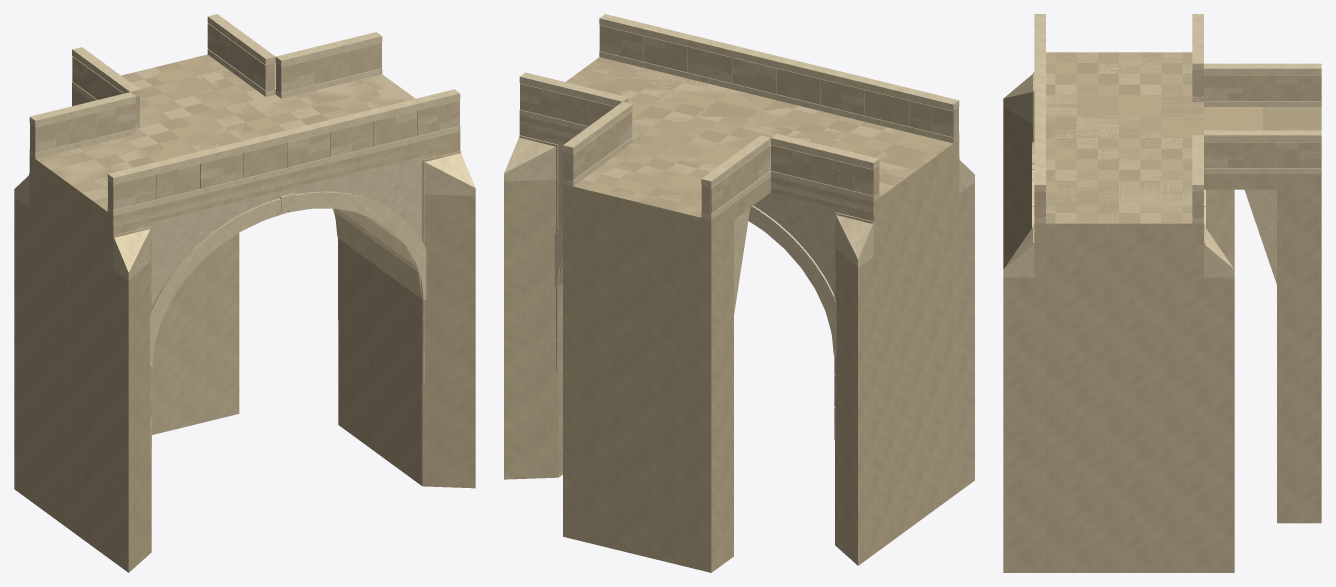
The model's file is verona_bridge_junction.glb.
3 renders of one model, left to right at view 1: azimuth 30°, elevation 25°; view 2: azimuth 150°, elevation 25°; view 3: azimuth 270°, elevation 25°, orthographic. The views are drawn at different scales.
Visible parts, largest first — view 1: Travertine.002, Limestone_trim.002, Limestone_trim.003, Limewash.002, Travertine.003, Paving_3.002, Paving_0.002, Limewash.003, Paving_2.002, Paving_1.002, Paving_3.003, Travertine.004 (+6 smaller); view 2: Travertine.002, Limestone_trim.002, Limestone_trim.003, Travertine.003, Limewash.002, Paving_0.002, Paving_3.002, Limewash.003, Paving_1.002, Paving_0.003, Paving_2.002, Paving_1.004 (+6 smaller); view 3: Travertine.002, Limestone_trim.002, Paving_3.002, Paving_2.002, Paving_1.002, Paving_0.002, Limestone_trim.003, Paving_1.004, Paving_0.004, Paving_0.003, Paving_3.003, Paving_2.003 (+6 smaller).
Part boxes in pixels (<box>): Travertine.002: <box>14,23,475,572</box>; Limestone_trim.002: <box>14,14,475,366</box>; Limestone_trim.003: <box>29,14,460,449</box>; Limewash.002: <box>35,32,459,305</box>; Travertine.003: <box>29,23,460,417</box>; Paving_3.002: <box>36,54,387,192</box>; Paving_0.002: <box>61,57,380,210</box>; Limewash.003: <box>35,68,435,306</box>; Paving_2.002: <box>41,61,385,200</box>; Paving_1.002: <box>51,62,364,207</box>; Paving_3.003: <box>36,56,414,169</box>; Travertine.004: <box>333,208,422,299</box>; Travertine.002: <box>504,25,974,572</box>; Limestone_trim.002: <box>504,14,974,370</box>; Limestone_trim.003: <box>519,14,959,439</box>; Travertine.003: <box>519,25,953,407</box>; Limewash.002: <box>520,36,952,293</box>; Paving_0.002: <box>566,71,952,214</box>; Paving_3.002: <box>573,66,926,209</box>; Limewash.003: <box>544,57,953,291</box>; Paving_1.002: <box>587,57,947,217</box>; Paving_0.003: <box>603,89,951,201</box>; Paving_2.002: <box>583,61,936,203</box>; Paving_1.004: <box>566,57,915,216</box>; Travertine.002: <box>1003,70,1321,572</box>; Limestone_trim.002: <box>1003,14,1321,284</box>; Paving_3.002: <box>1046,52,1321,223</box>; Paving_2.002: <box>1046,52,1301,223</box>; Paving_1.002: <box>1046,52,1282,223</box>; Paving_0.002: <box>1046,52,1262,223</box>; Limestone_trim.003: <box>1032,14,1321,234</box>; Paving_1.004: <box>1046,52,1321,223</box>; Paving_0.004: <box>1046,52,1262,137</box>; Paving_0.003: <box>1046,52,1203,223</box>; Paving_3.003: <box>1046,52,1192,223</box>; Paving_2.003: <box>1046,52,1191,223</box>.
Size of the model in its own units: 10.5 by 11.1 by 8.25.
7 materials, 3 textured.
